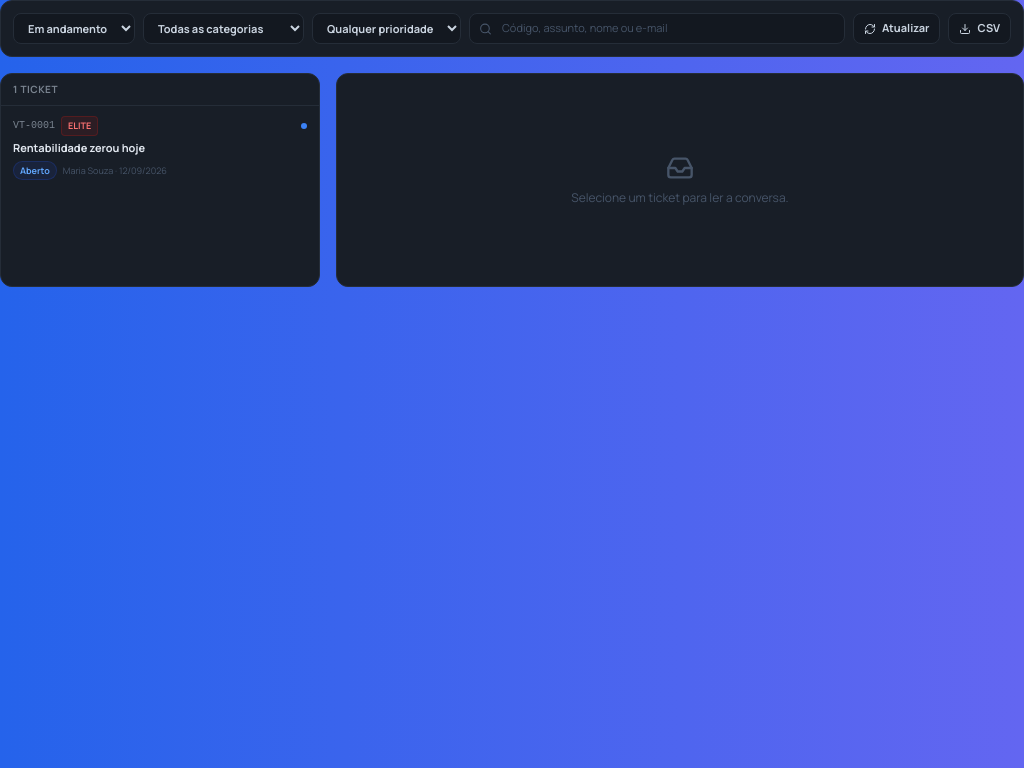
Test: exclusão do ticket › o primeiro clique pergunta, não apaga
The width and height of the screenshot is (1024, 768).
Click the text "Rentabilidade zerou hoje" at (79, 147), box x1=13 y1=140 x2=145 y2=154
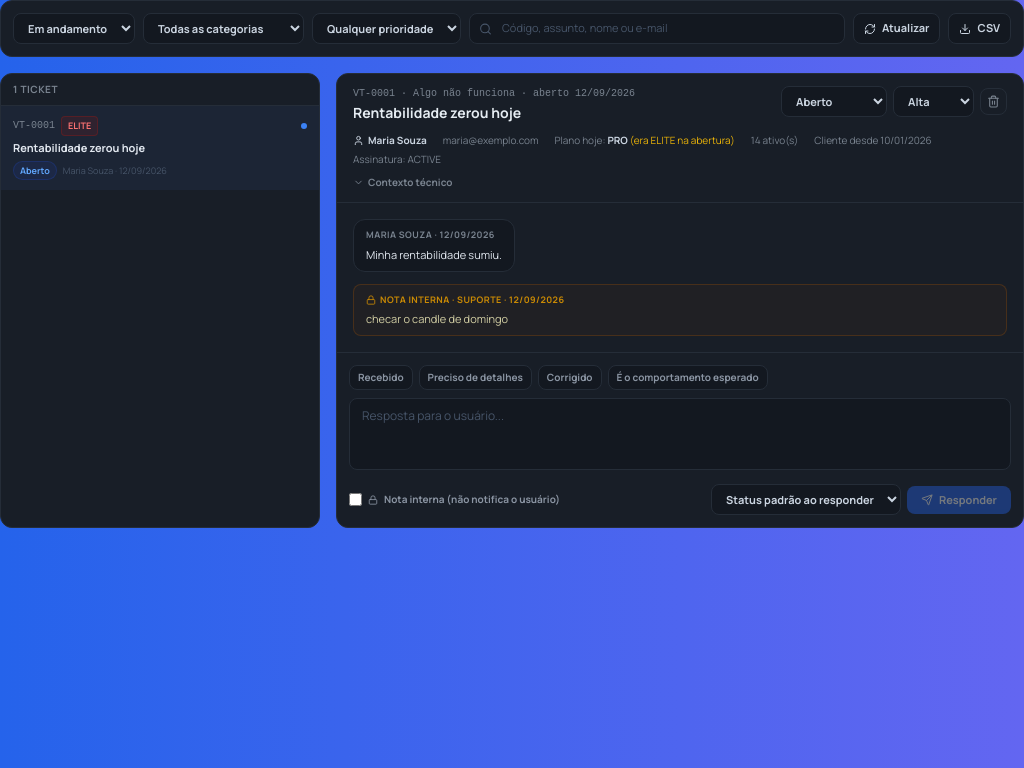
Click the button named "excluir ticket" at (994, 102), box x1=980 y1=88 x2=1007 y2=115
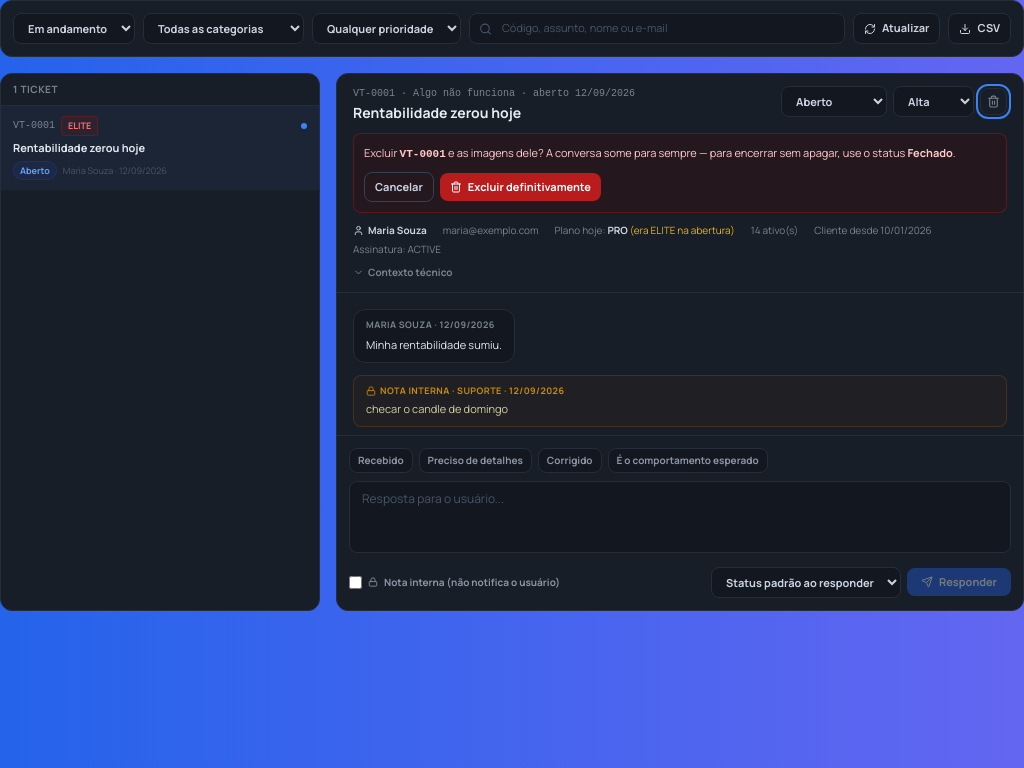
Result: the text "some para sempre" is shown at x1=446 y1=145 x2=908 y2=160
